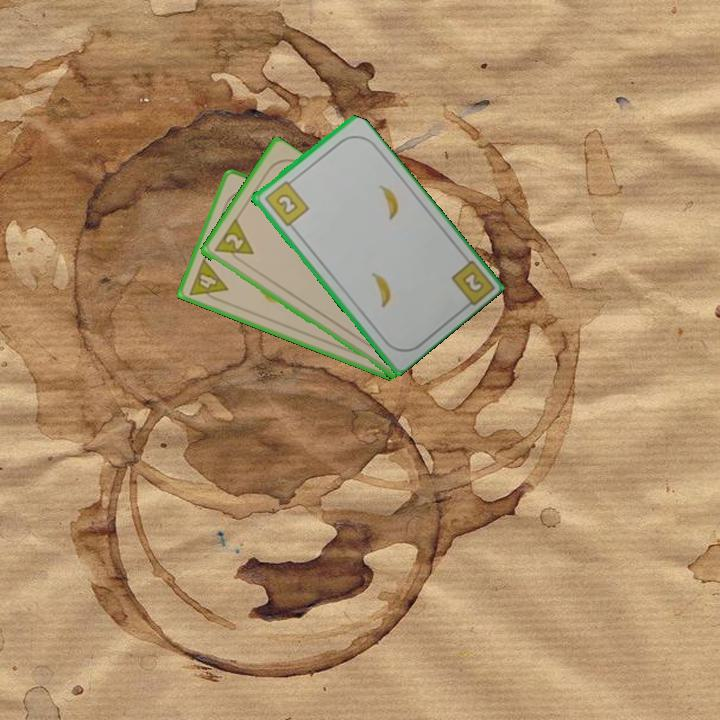2b: (261, 175, 311, 229), (458, 267, 486, 296)
2p: (221, 230, 246, 253)
4p: (185, 255, 231, 306)
